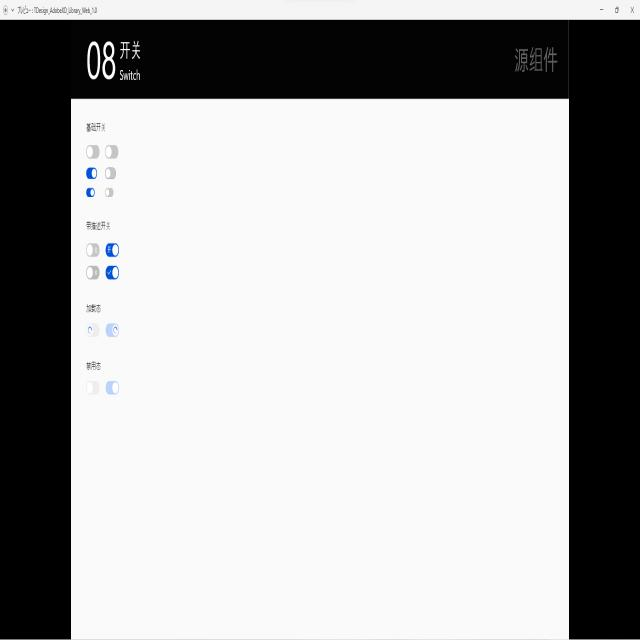toggle: (84, 378, 101, 396), (104, 144, 120, 160), (105, 242, 120, 258), (85, 144, 100, 160), (86, 265, 101, 281), (103, 323, 119, 338), (84, 324, 100, 338), (104, 380, 119, 394), (104, 266, 119, 279), (85, 244, 101, 256), (104, 167, 117, 180), (84, 167, 98, 179), (104, 187, 115, 199), (86, 187, 95, 198)
